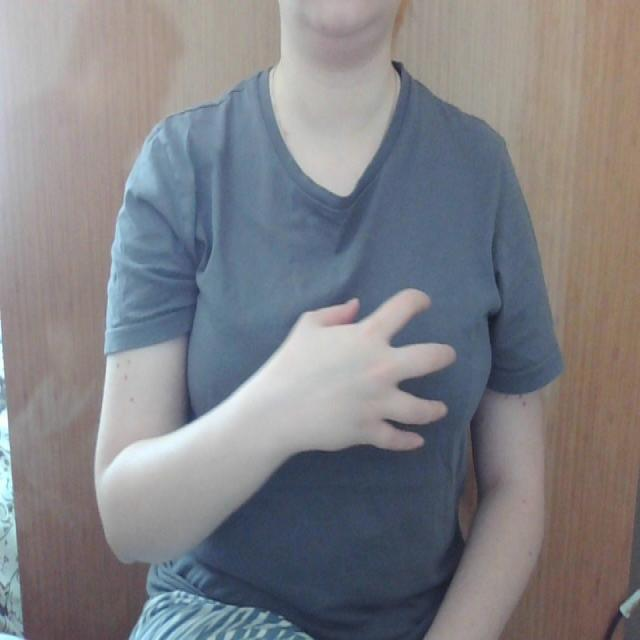Anne: (171, 275, 512, 463)
